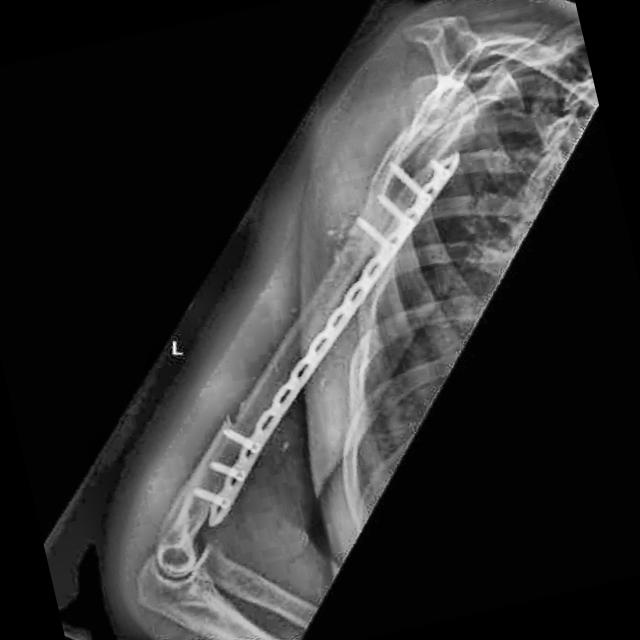humerus: (331, 221, 375, 268)
